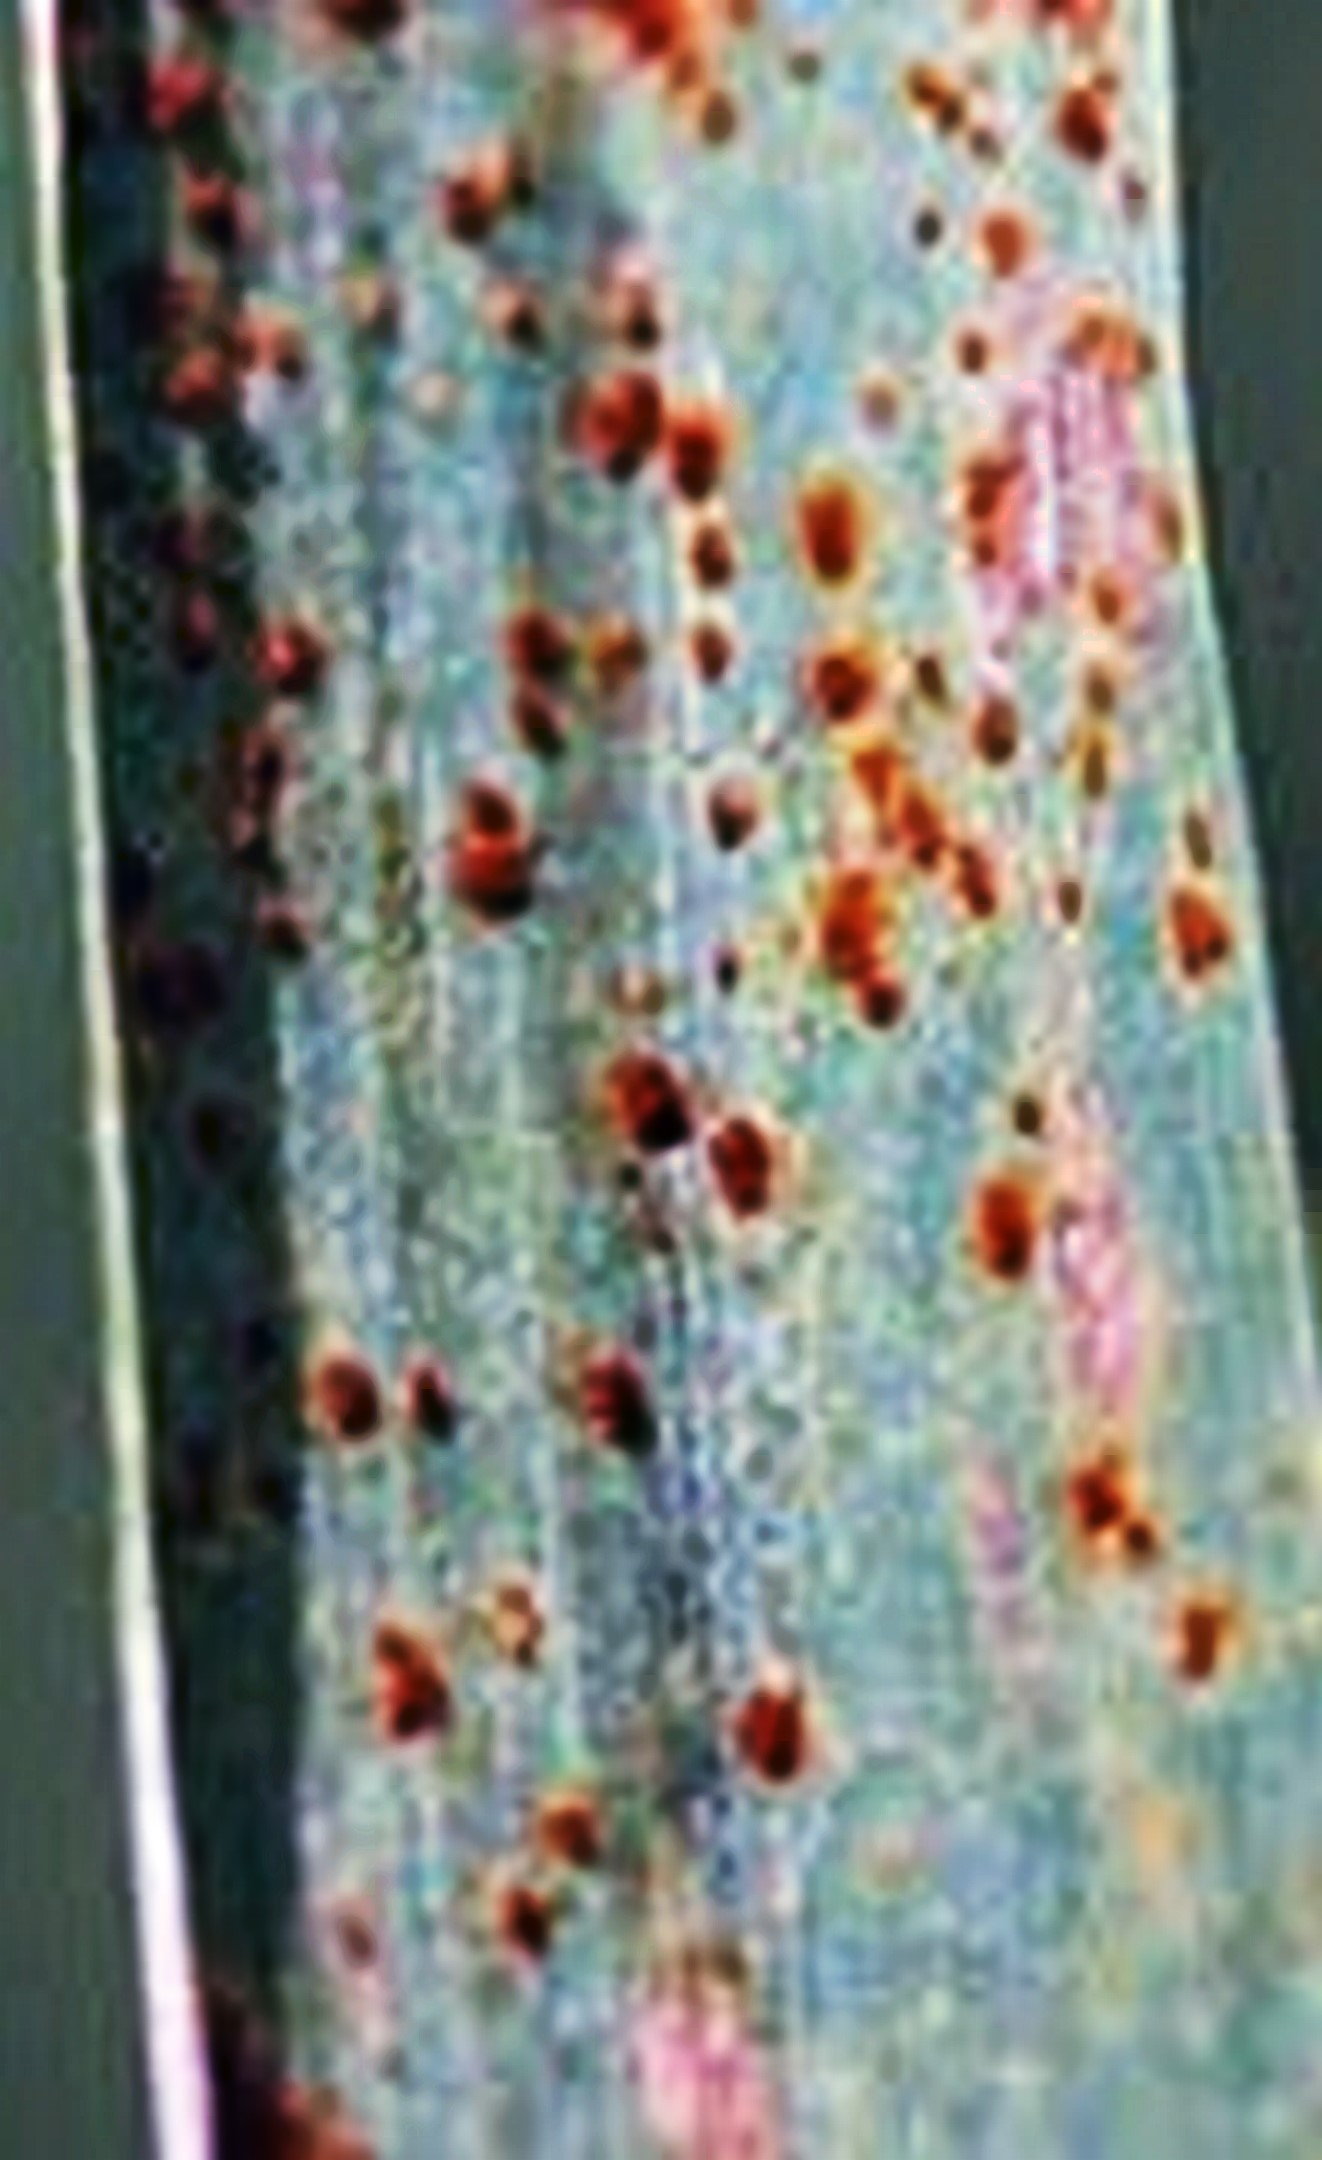Leaf Rust: (83, 136, 1322, 1645)
